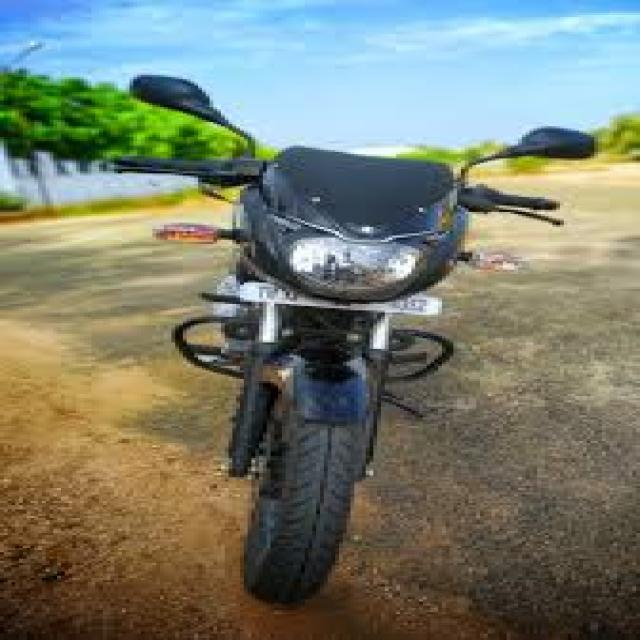bike: (108, 71, 574, 570)
